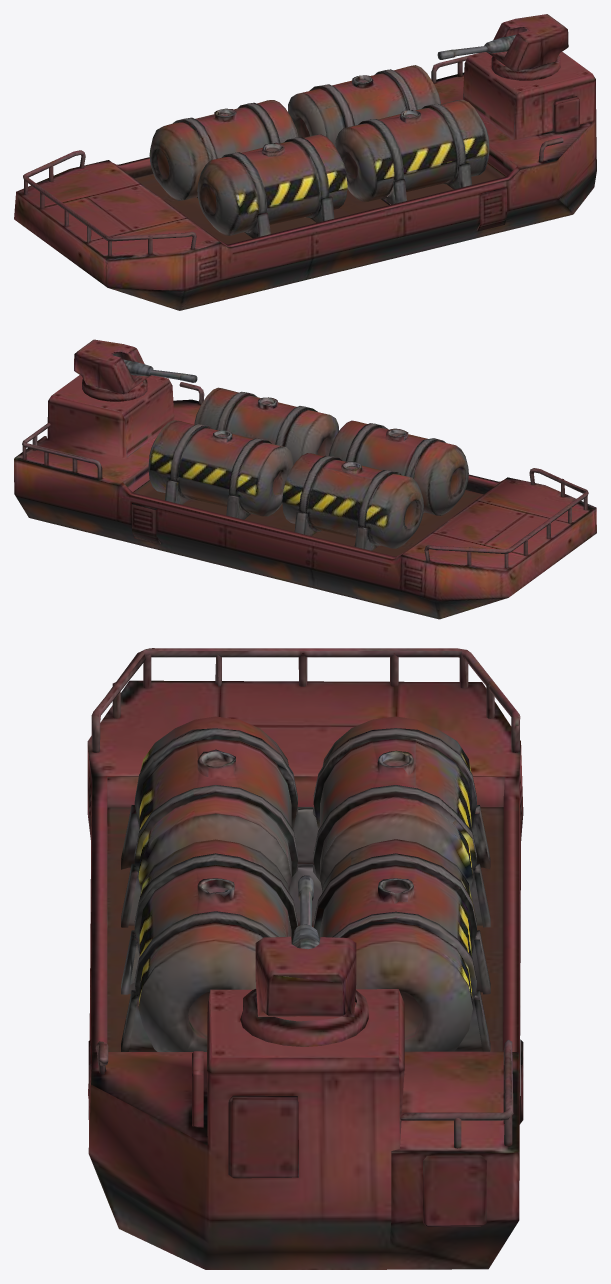
The model's file is barge.glb.
3 renders of one model, top to bottom at view 1: azimuth 30°, elevation 25°; view 2: azimuth 150°, elevation 25°; view 3: azimuth 270°, elevation 25°, orthographic. The views are drawn at different scales.
Bounding box in the file's own units: 0.9526 × 0.2642 × 0.3672.
Materials: 1 (1 with a texture image).
